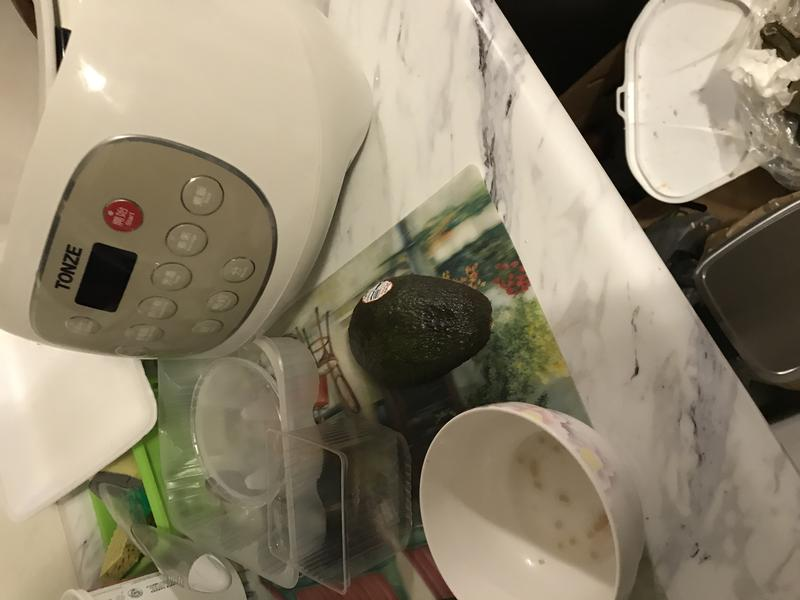avocado: (342, 268, 500, 386)
